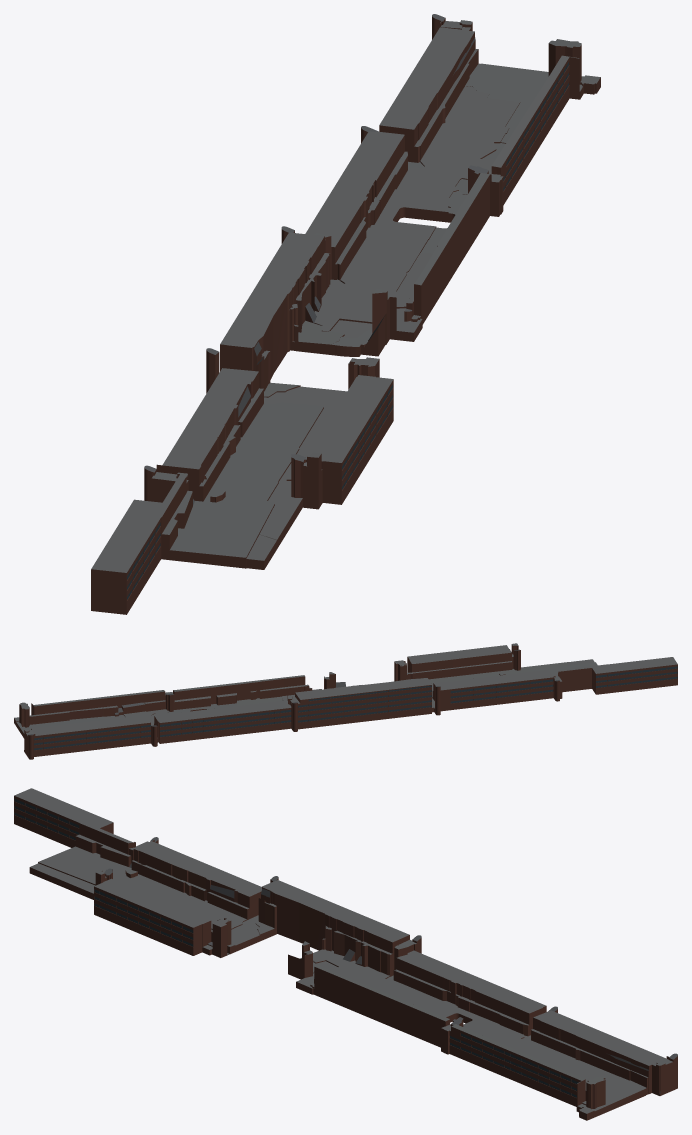
Rendered from recipe-large-kattenburgerstraat-164930.glb.
3 views of the same model, one above another, from view 1: azimuth 30°, elevation 25°; view 2: azimuth 150°, elevation 25°; view 3: azimuth 270°, elevation 25° (orthographic). The views are drawn at different scales.
Visible parts, largest first — view 1: kattenburgerstraat-164930; view 2: kattenburgerstraat-164930; view 3: kattenburgerstraat-164930.
Boxes of the visible parts, bbox=[...] form: kattenburgerstraat-164930: bbox=[91, 14, 600, 614]; kattenburgerstraat-164930: bbox=[14, 643, 677, 759]; kattenburgerstraat-164930: bbox=[14, 788, 677, 1120].
Size of the model in its own units: 318 by 19.28 by 293.
